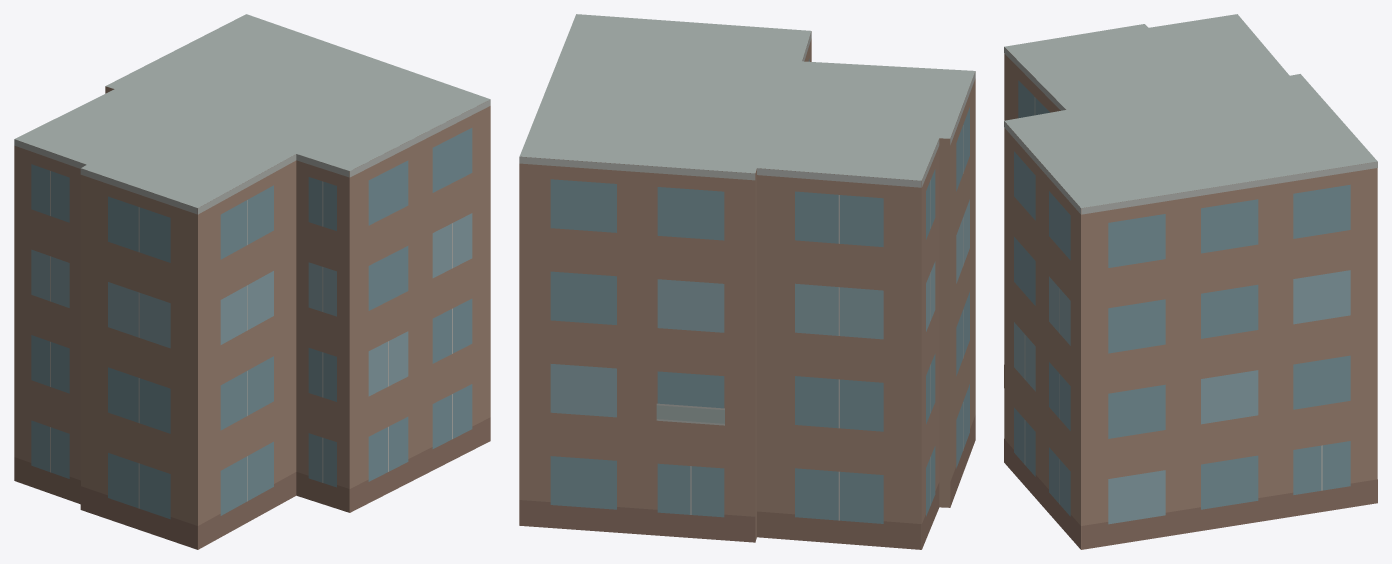
Rendered from survey-upis-32850607.glb.
The picture shows the model from 3 angles, left to right: view 1: azimuth 30°, elevation 25°; view 2: azimuth 150°, elevation 25°; view 3: azimuth 270°, elevation 25°; orthographic projection. The views are drawn at different scales.
Visible parts, largest first — view 1: survey-upis-32850607.tmp; view 2: survey-upis-32850607.tmp; view 3: survey-upis-32850607.tmp.
Boxes of the visible parts, x1,y1,x2,y2 form: survey-upis-32850607.tmp: [14, 14, 490, 549]; survey-upis-32850607.tmp: [519, 14, 975, 549]; survey-upis-32850607.tmp: [1004, 14, 1377, 549].
Bounding box in the file's own units: 15.8 × 12.95 × 12.85.
